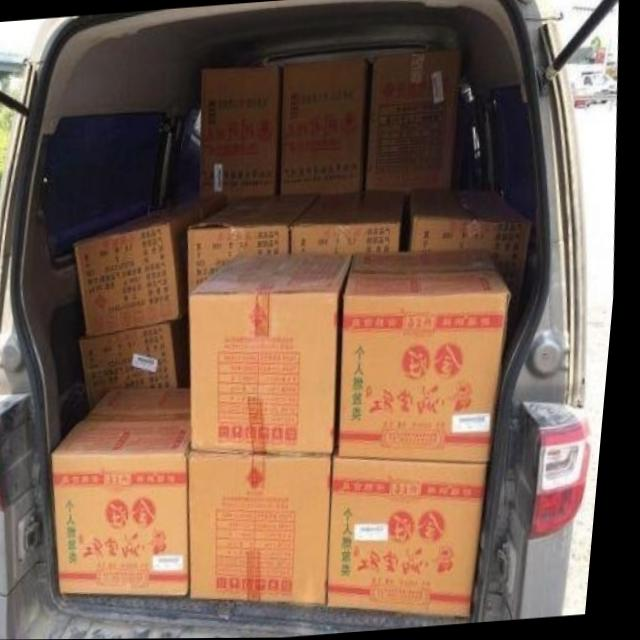box: (348, 250, 514, 462), (195, 252, 355, 452), (56, 389, 199, 595), (339, 457, 495, 617), (198, 454, 339, 602), (78, 205, 222, 335), (413, 190, 535, 307), (368, 52, 461, 199), (191, 194, 319, 300), (282, 60, 371, 194), (201, 68, 278, 201), (86, 320, 192, 408), (294, 194, 407, 252)
